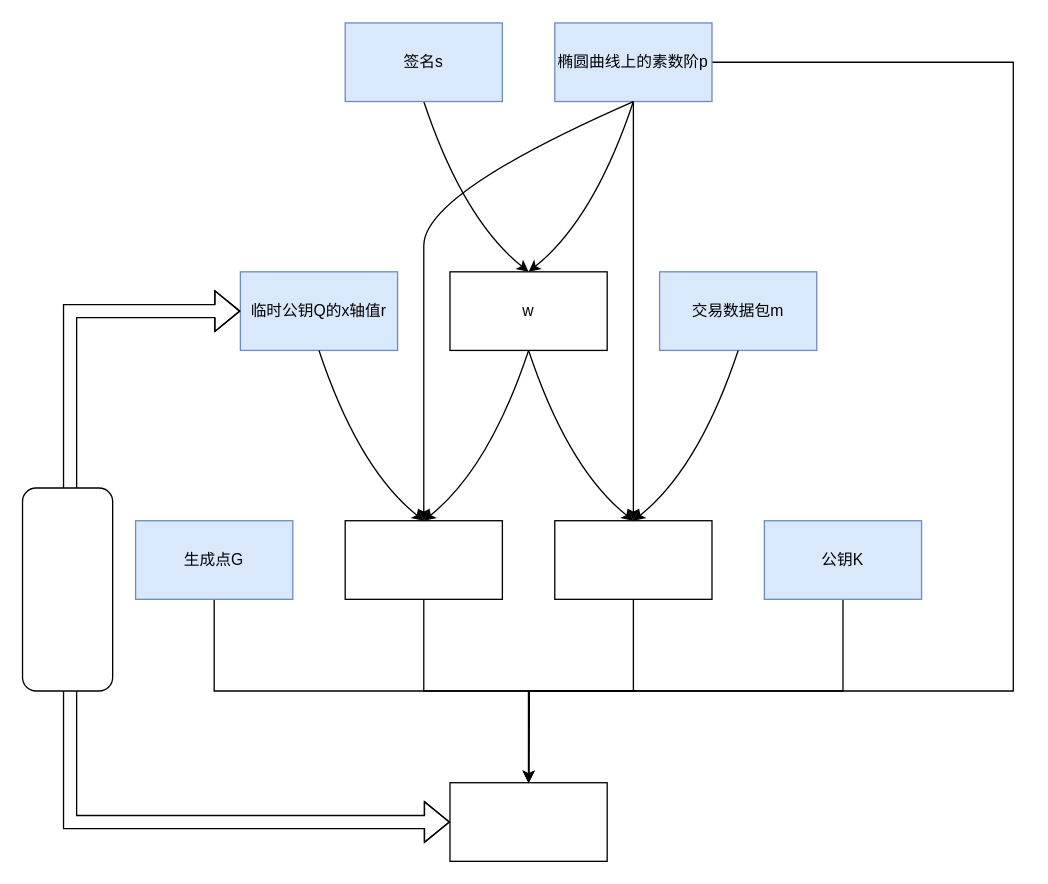
This 1048x884 diagram has some shape labels left out. The shapes that lost their labels are listed below. From the top down, each one's box as (x1, y1, x2, y2) in pixels, then its label:
(344, 519, 502, 599): u2
(553, 519, 712, 599): u1
(21, 487, 113, 691): 对比两个Q的x轴坐标r是否相等，如果相等则签名合法
(449, 781, 607, 861): 椭圆曲线上的点Q
